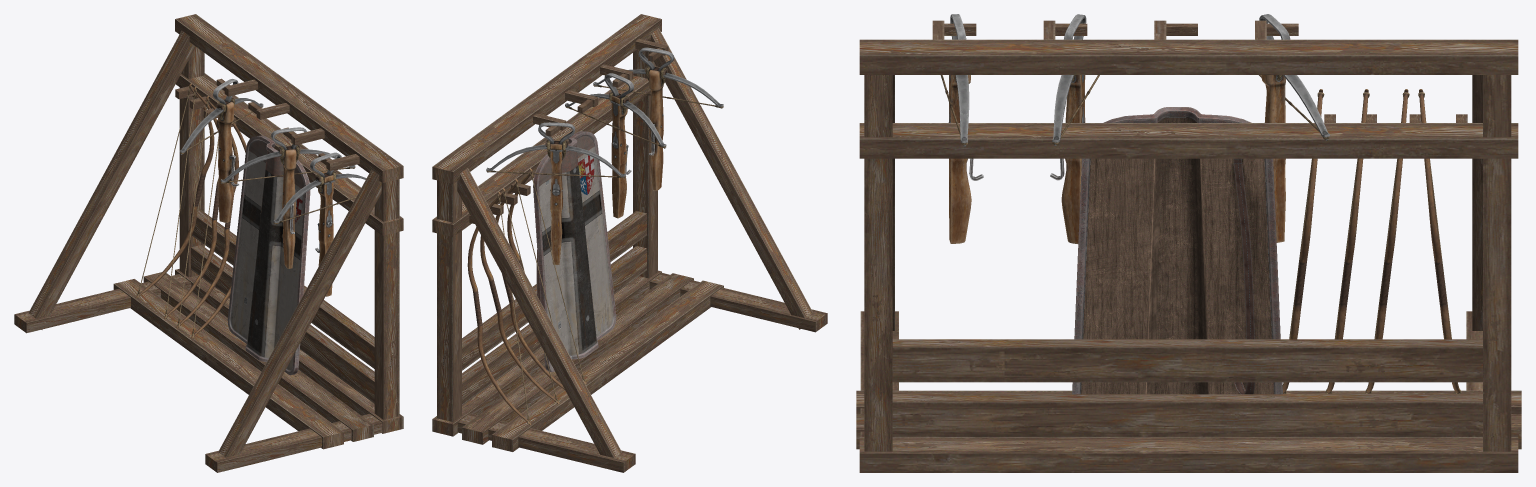
The model's file is Weapon_Pack_05.fbx.
The picture shows the model from 3 angles, left to right: view 1: azimuth 30°, elevation 25°; view 2: azimuth 150°, elevation 25°; view 3: azimuth 270°, elevation 25°; orthographic projection. The views are drawn at different scales.
Visible parts, largest first — view 1: Weapon_Pack_05_LOD0; view 2: Weapon_Pack_05_LOD0; view 3: Weapon_Pack_05_LOD0.
Boxes of the visible parts, bbox=[...] form: Weapon_Pack_05_LOD0: bbox=[14, 14, 403, 472]; Weapon_Pack_05_LOD0: bbox=[432, 14, 827, 472]; Weapon_Pack_05_LOD0: bbox=[856, 14, 1521, 472].
Size of what is drawn, in the model's own units: 110 by 139 by 200.
